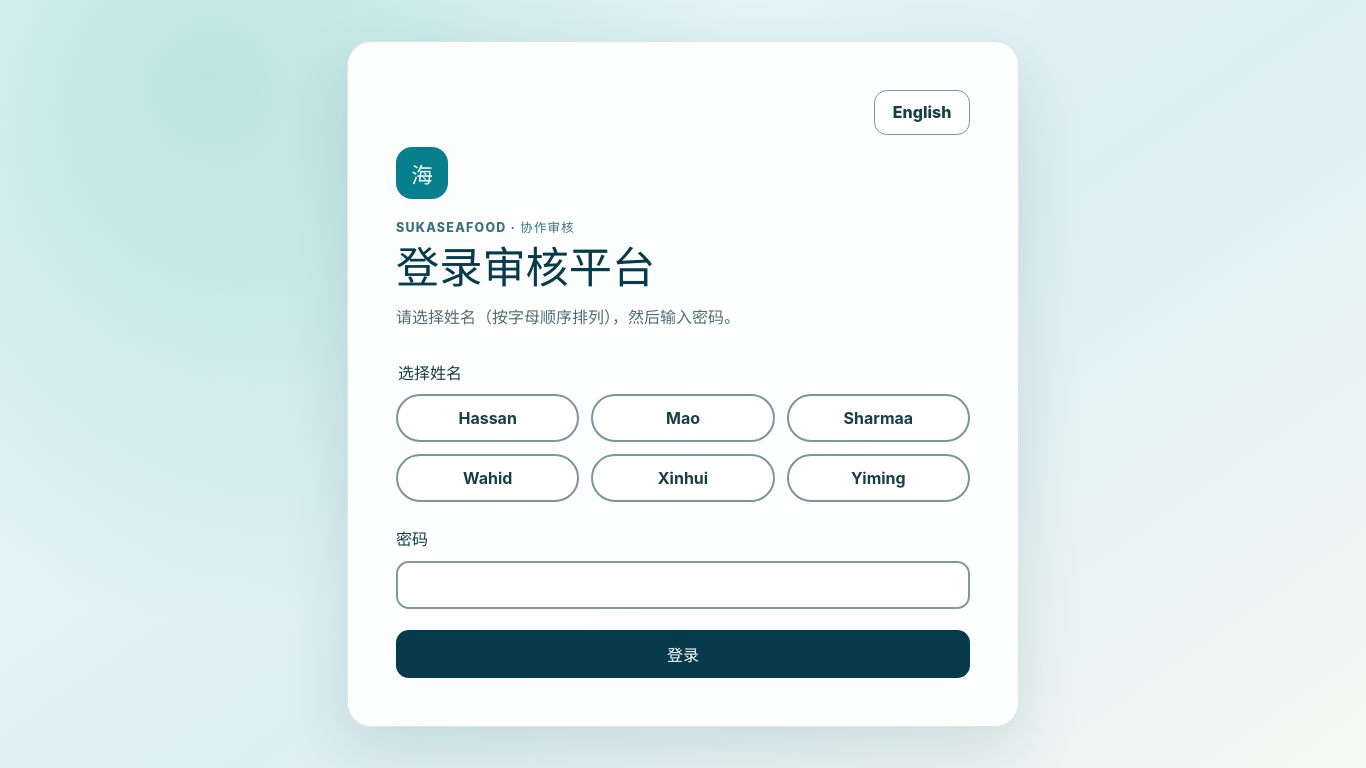
Test case: login page › submits the selected fixed name and password once with credentials and no CSRF header
Click the radio button labelled "Mao" at (683, 418), box x1=591 y1=394 x2=775 y2=442
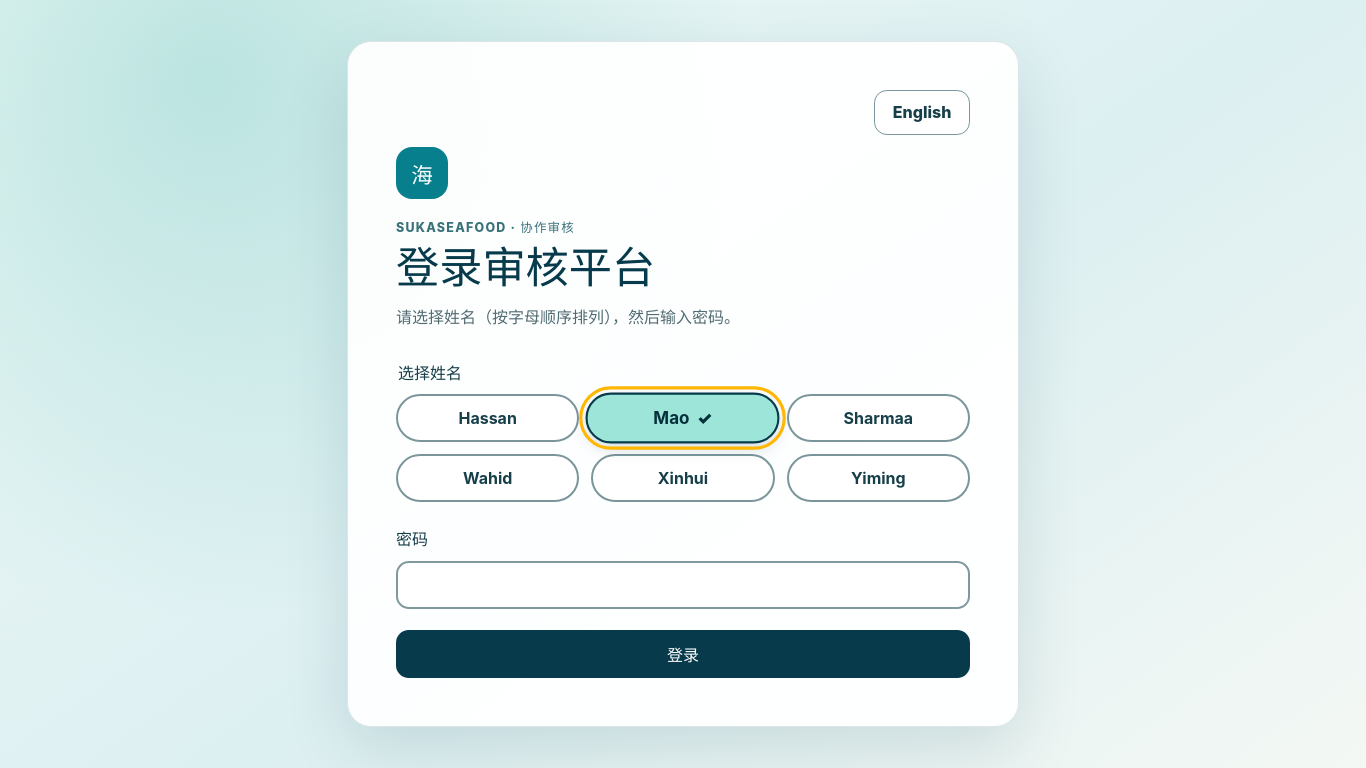
Type "temporary-password" into the password field labelled "密码" at (683, 585), box x1=396 y1=561 x2=970 y2=609
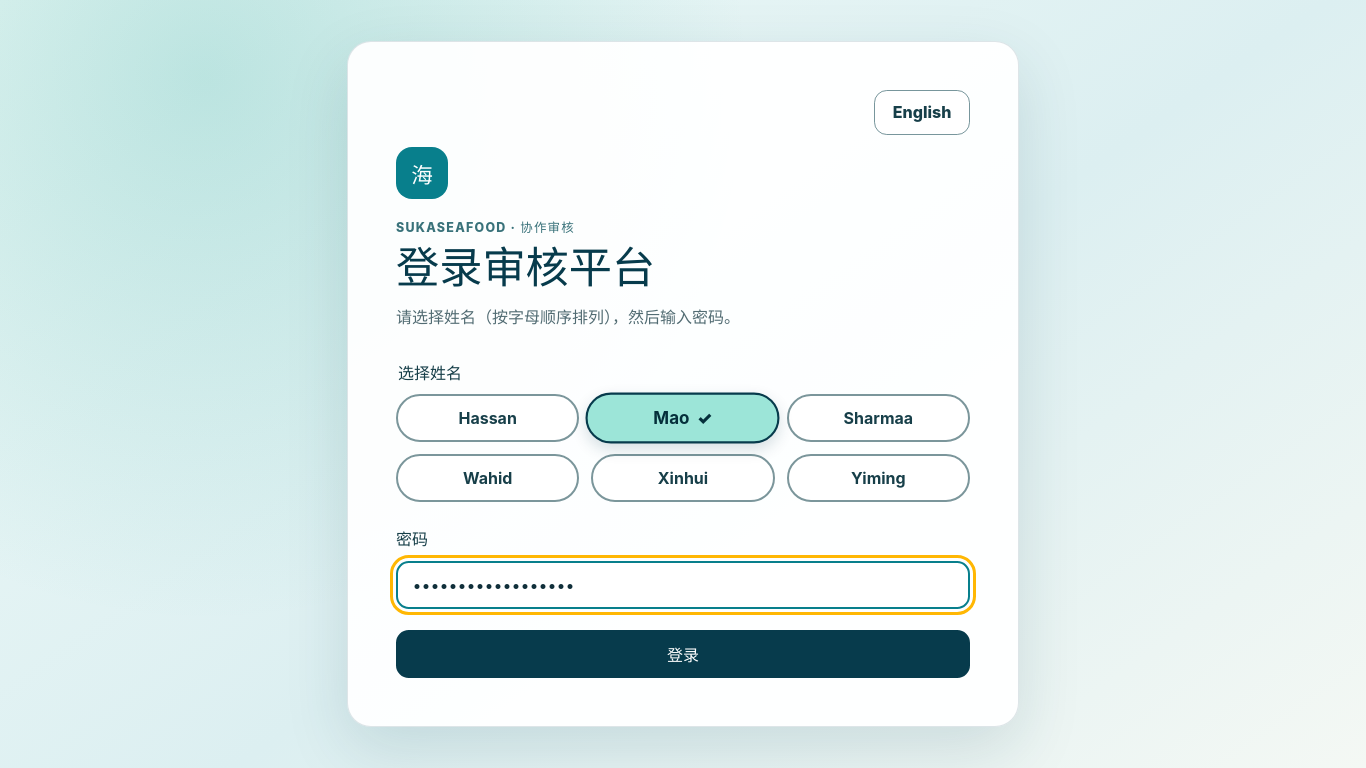
Click the button "登录" at (683, 654), box x1=396 y1=630 x2=970 y2=678
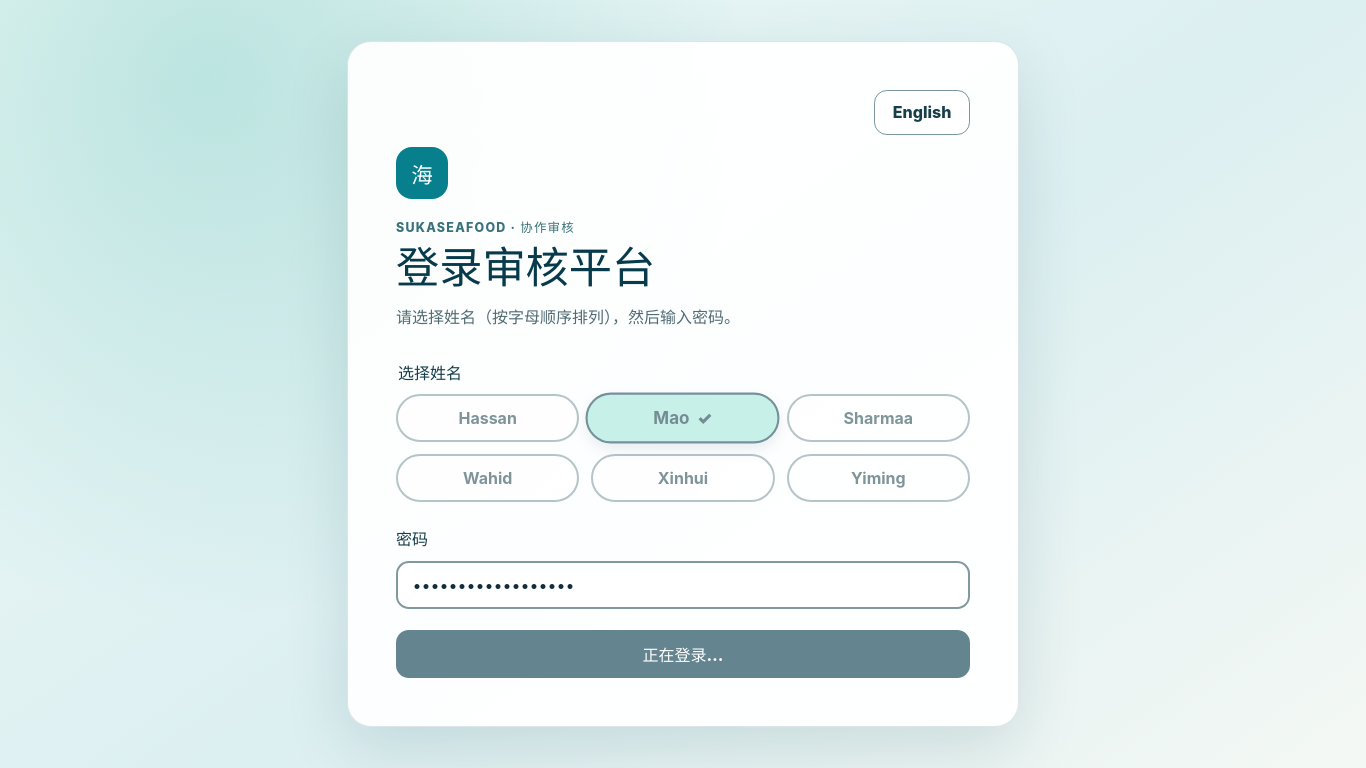
Click the button "正在登录…" at (683, 654), box x1=396 y1=630 x2=970 y2=678
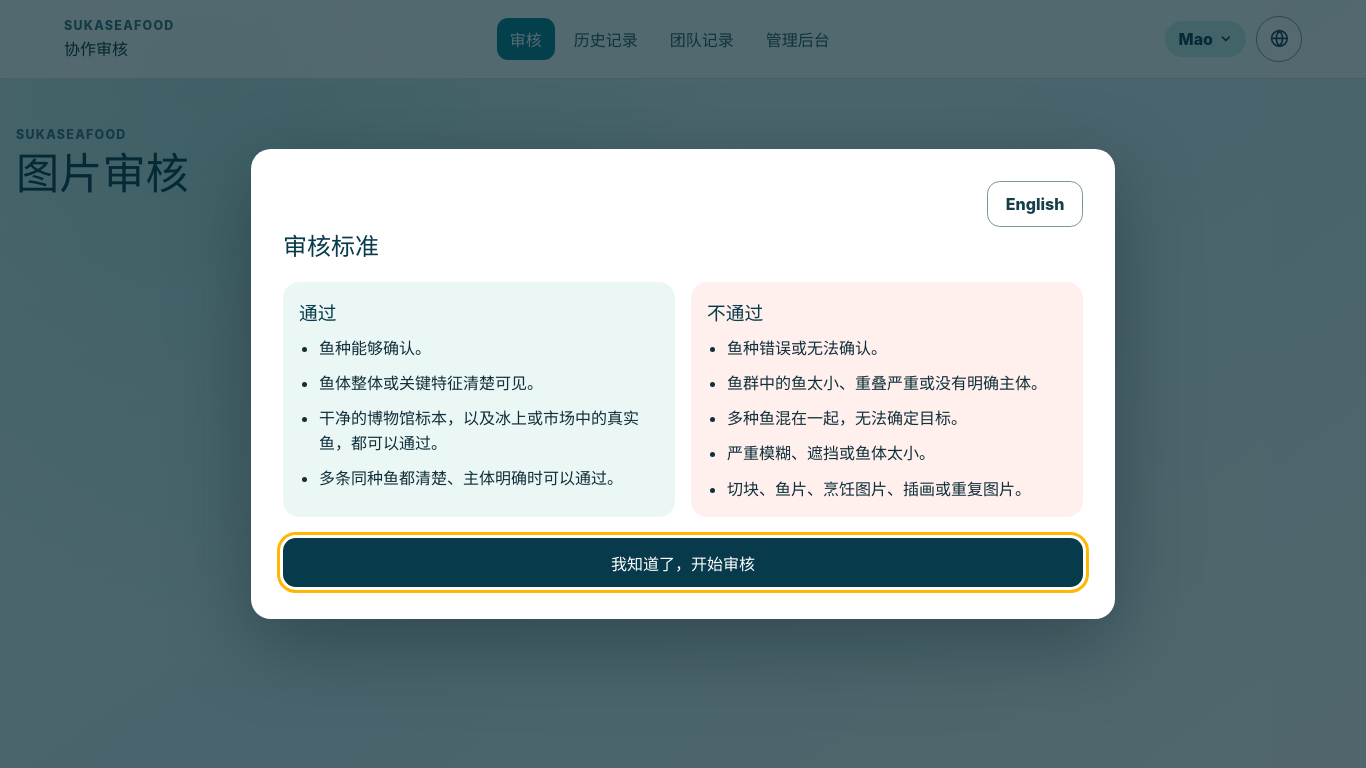
Check: the button with aria-label "Mao 账户菜单" is shown, box x1=1165 y1=21 x2=1246 y2=57
Check: the text "Change password" is gone
